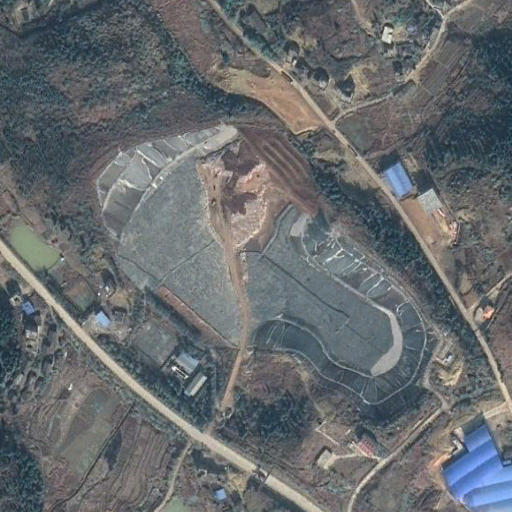lf: (97, 126, 426, 406)
